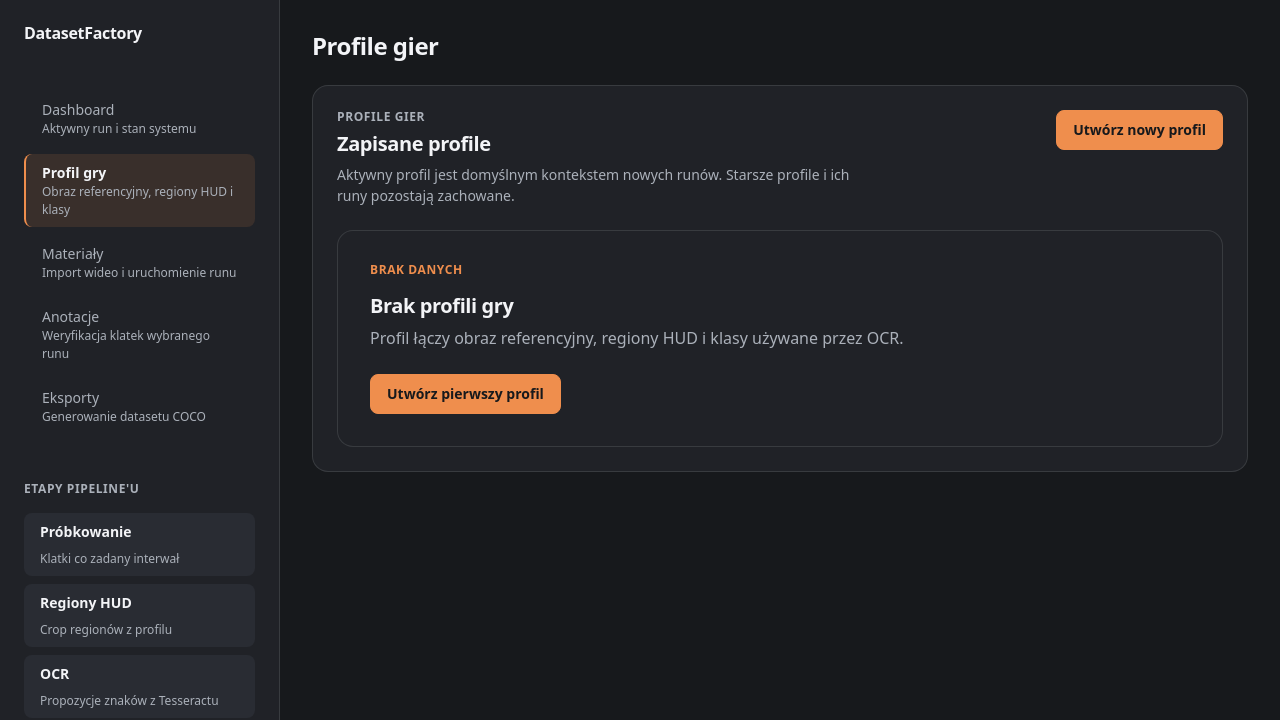
Test case: profile collection and explicit selection › keeps profile creation as an action on the collection screen
Click the button "Utwórz pierwszy profil". click: (465, 394)
box: [370,374,561,414]
(page scrolled)
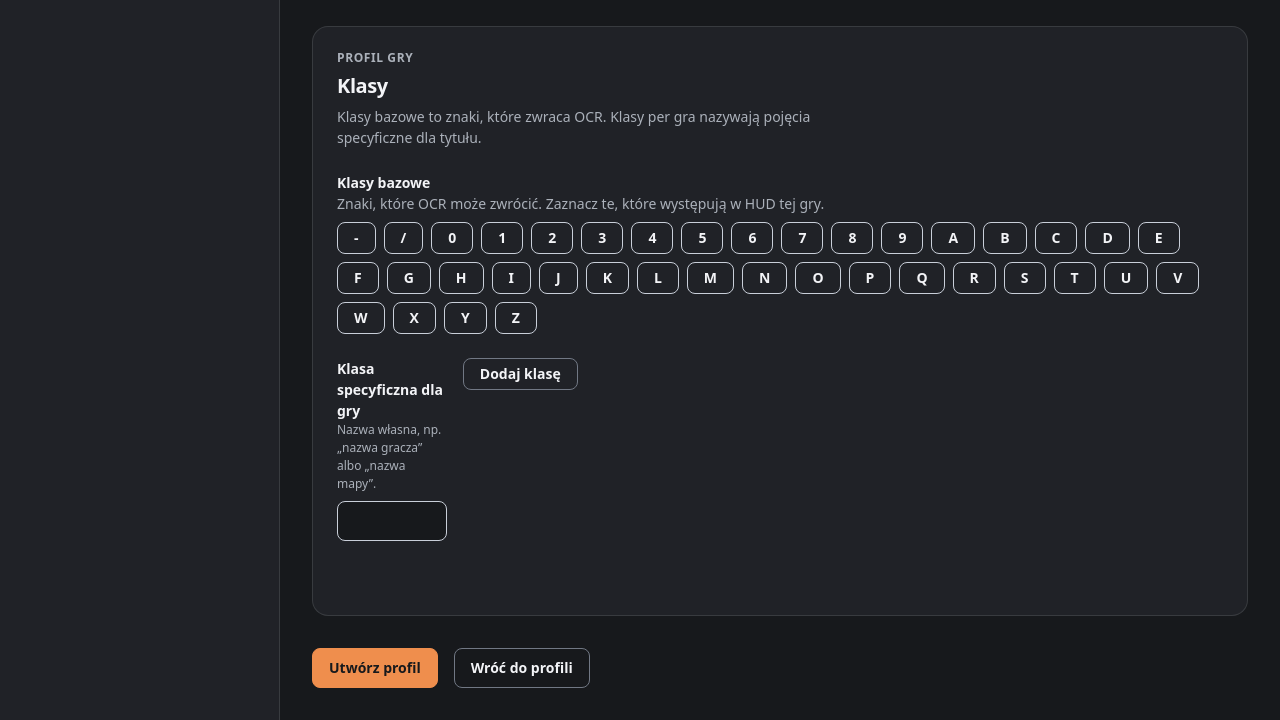
expect the button "Wróć do profili" is shown: met, box [454,648,590,688]
